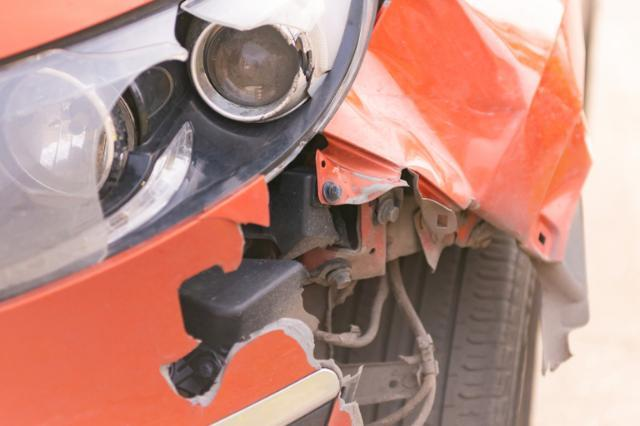Bumper: (116, 129, 574, 426)
